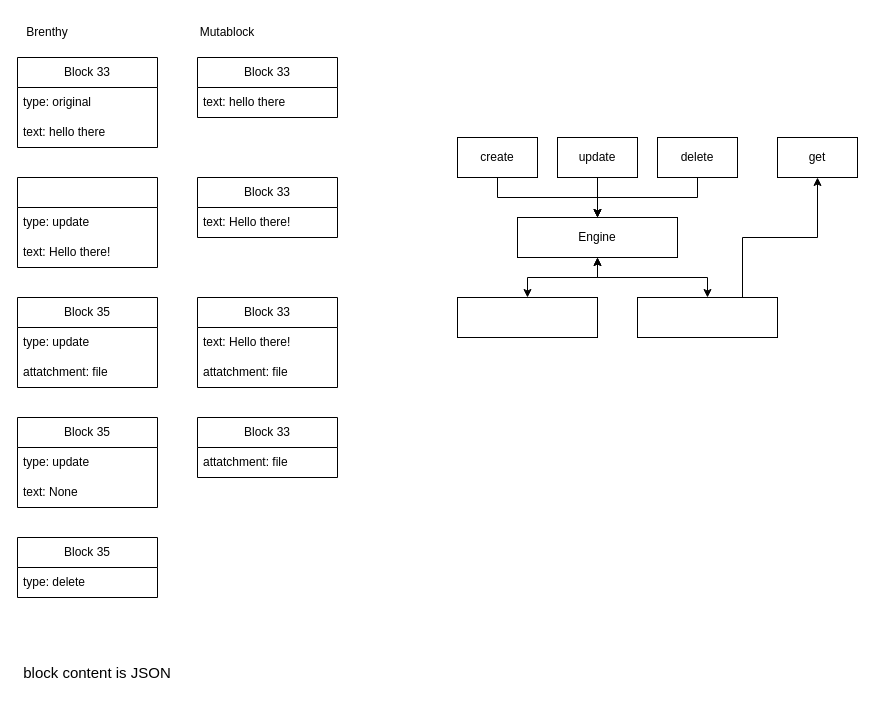
This 875x704 diagram has some shape labels left out. The box of each missing label's shape, as (x1, y1, x2, y2) in pixels:
Block 34: (16, 176, 158, 268)
Immutable Block Store: (456, 296, 598, 338)
Mutable Block Store: (636, 296, 778, 338)
